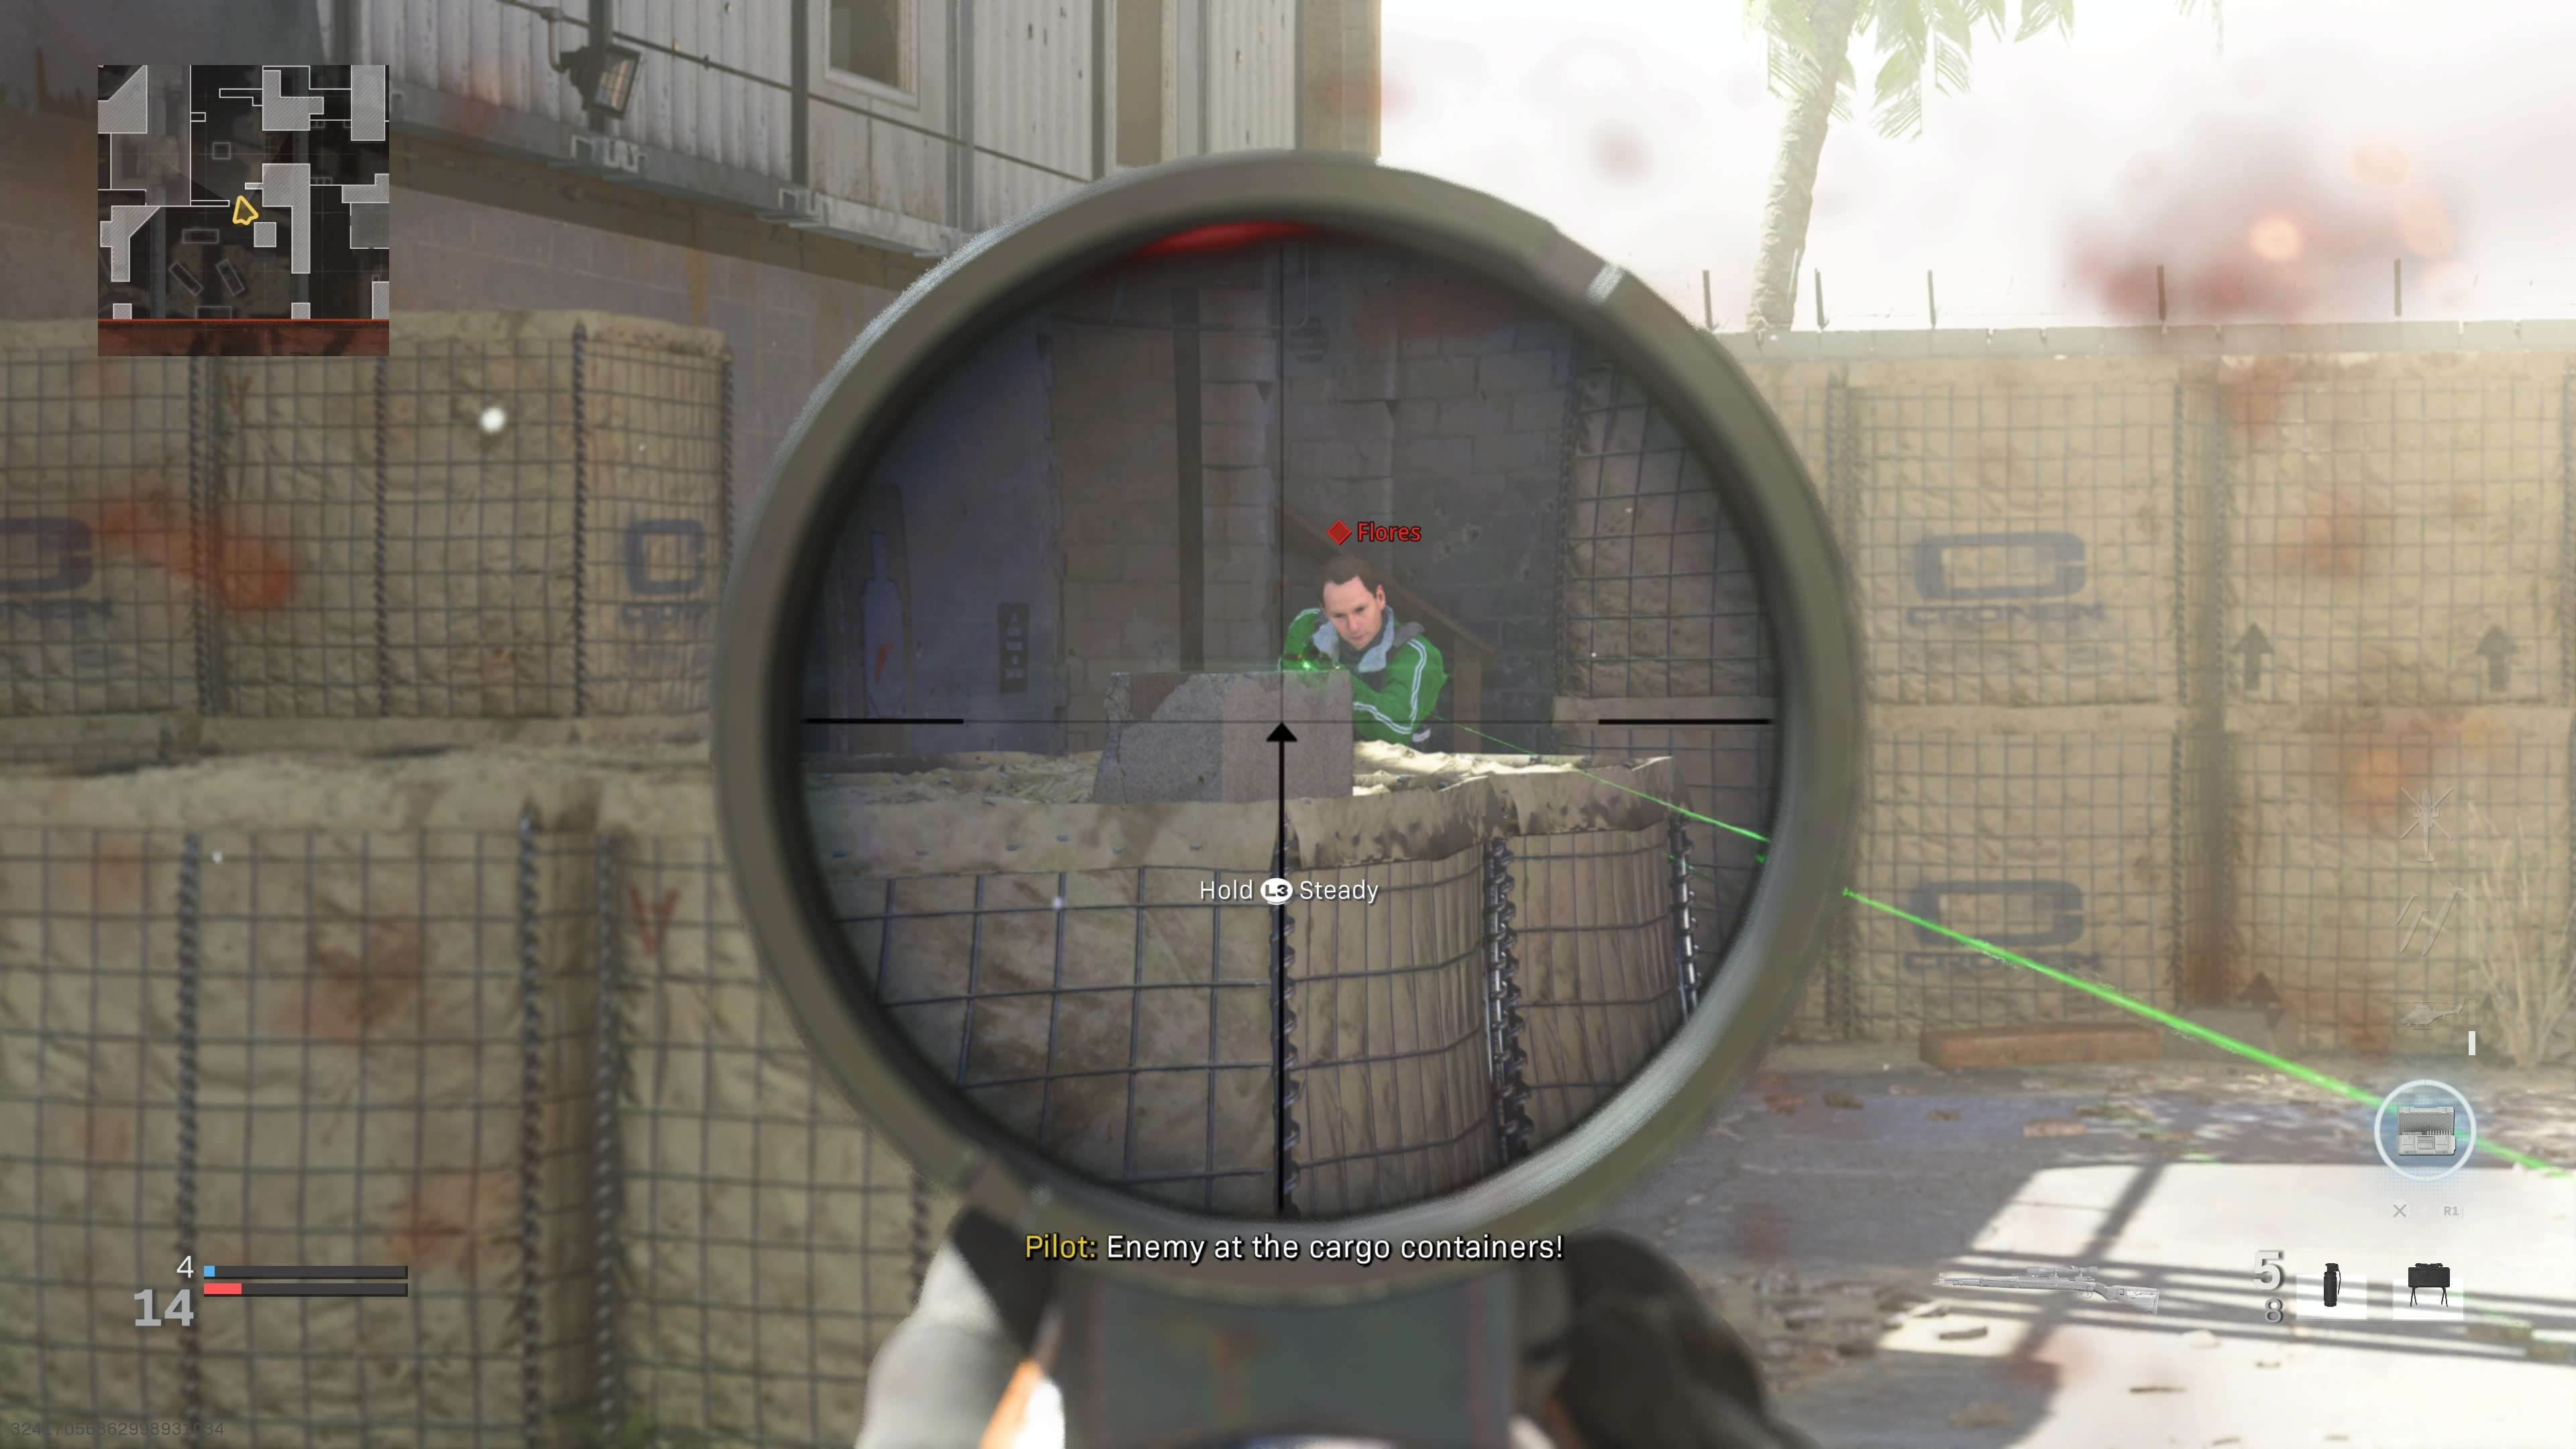head: (1311, 551, 1390, 655)
person: (1279, 541, 1444, 743)
